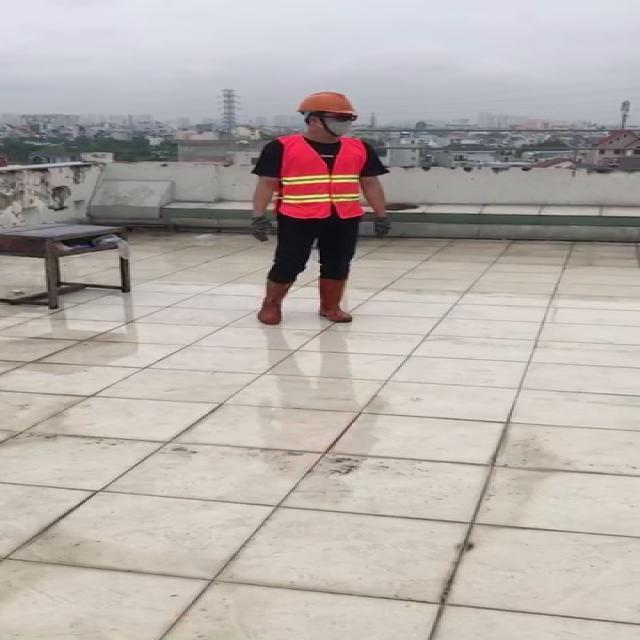gloves: (248, 215, 274, 243), (371, 214, 391, 239)
goggles: (316, 113, 359, 122)
helmet: (293, 90, 358, 117)
safety_vest: (277, 137, 368, 218)
